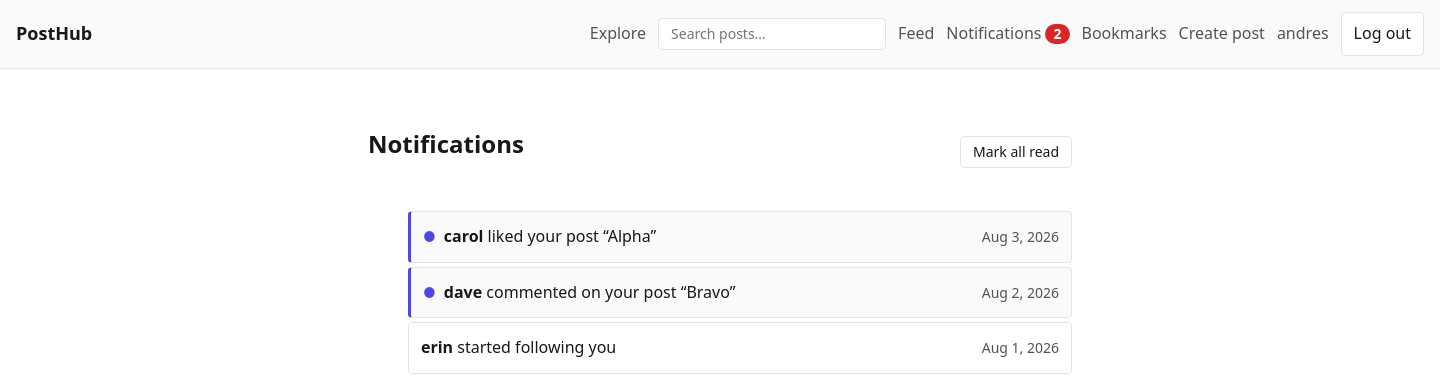
Test: Notifications › clears the badge with Mark all read
Check: the text named "2 unread" is shown, box [1046,24,1070,44]
Click the button "Mark all read" at (1016, 152), box [960,136,1072,168]
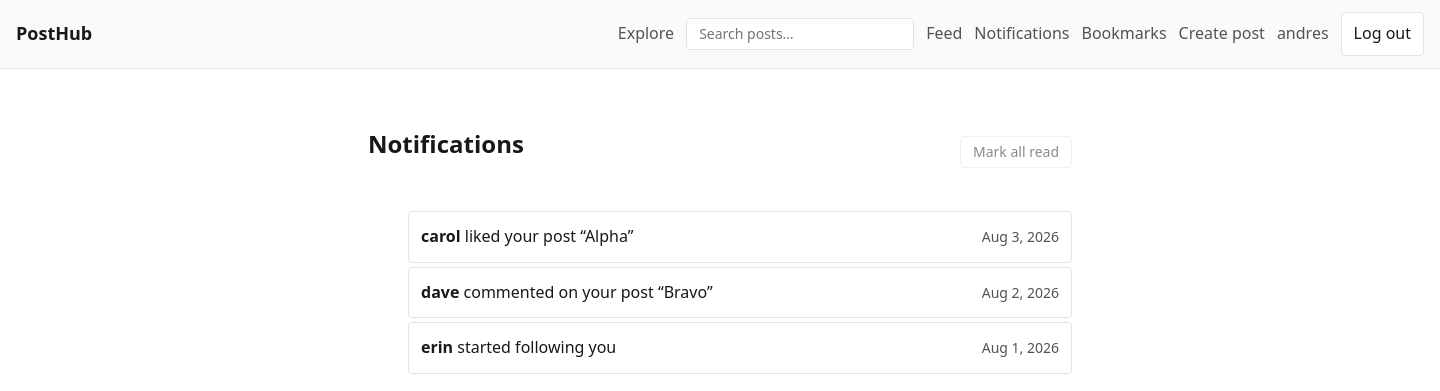
Check: the text labelled "unread" is gone
Check: the button "Mark all read" is disabled, box [960,136,1072,168]
